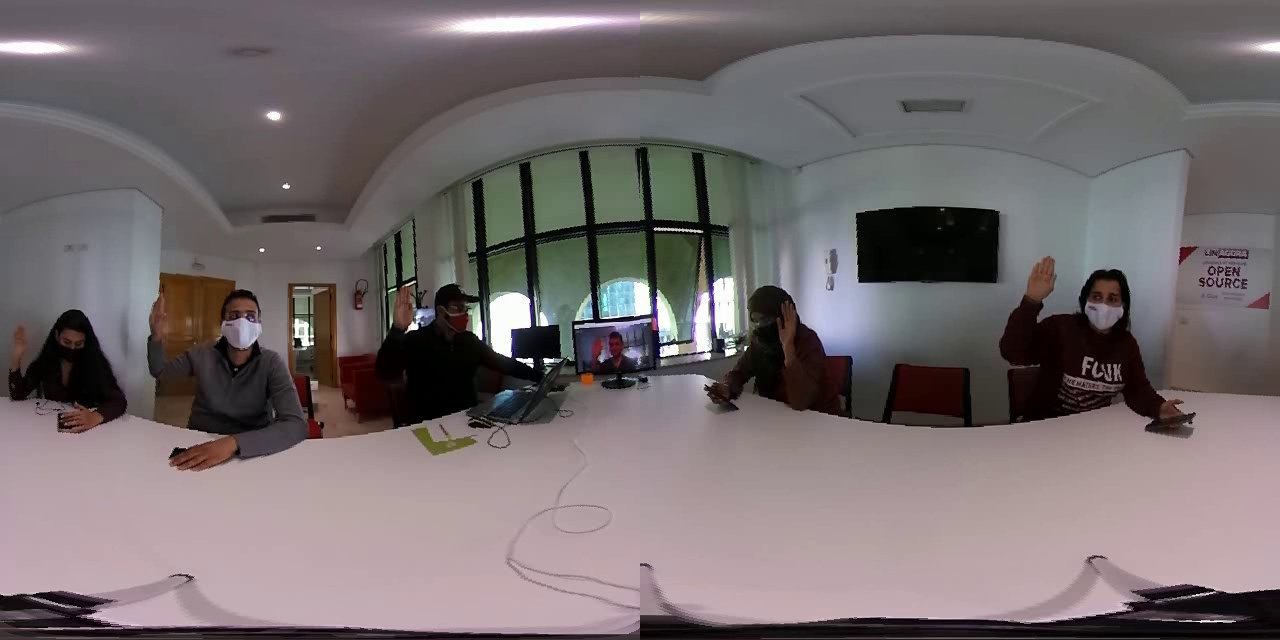person: (128, 275, 313, 459), (993, 247, 1159, 421), (703, 273, 840, 423), (378, 272, 511, 421), (3, 299, 125, 432), (573, 319, 653, 376)
voting: (1010, 245, 1061, 372), (130, 280, 184, 387), (772, 297, 818, 401), (5, 315, 39, 402), (386, 280, 416, 378), (586, 329, 608, 370)
